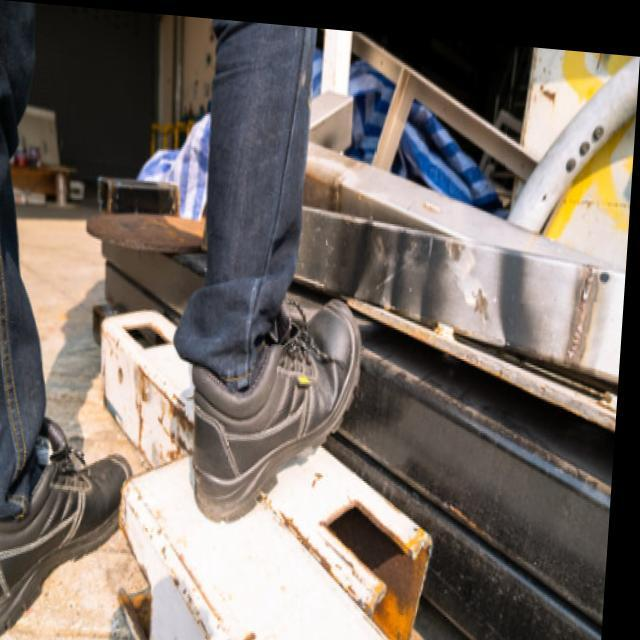shoes: (0, 267, 370, 640)
